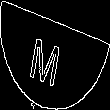M_N: (37, 24, 73, 86)
